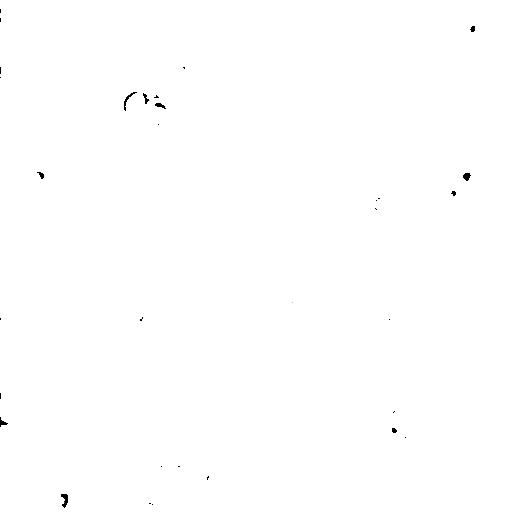micro-algae: (165, 72, 242, 147), (364, 15, 435, 88), (392, 422, 443, 475), (443, 174, 489, 220), (329, 262, 373, 307), (82, 257, 120, 295), (445, 157, 483, 193), (188, 48, 220, 89), (218, 261, 249, 300), (169, 8, 200, 40), (460, 12, 487, 47), (205, 0, 243, 24), (391, 405, 417, 439), (374, 432, 403, 461), (6, 154, 39, 179), (436, 0, 470, 23), (167, 65, 193, 95), (121, 89, 148, 117), (83, 463, 112, 489), (243, 367, 273, 392), (373, 304, 398, 331), (0, 0, 19, 33), (61, 474, 85, 500), (288, 287, 312, 310), (267, 418, 293, 439), (372, 61, 399, 81), (1, 394, 17, 426), (371, 193, 394, 215), (145, 451, 165, 476), (206, 469, 226, 493), (175, 449, 197, 470), (47, 490, 69, 511), (125, 343, 146, 365), (150, 103, 169, 127), (69, 197, 94, 215), (279, 325, 301, 345), (256, 317, 283, 333), (129, 304, 147, 324), (26, 169, 47, 183), (134, 0, 162, 9), (141, 501, 156, 511)
